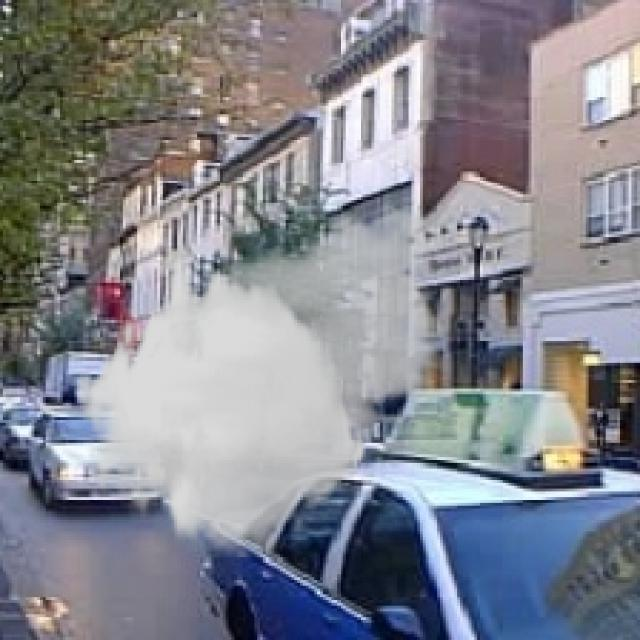smoke: (74, 189, 454, 557)
